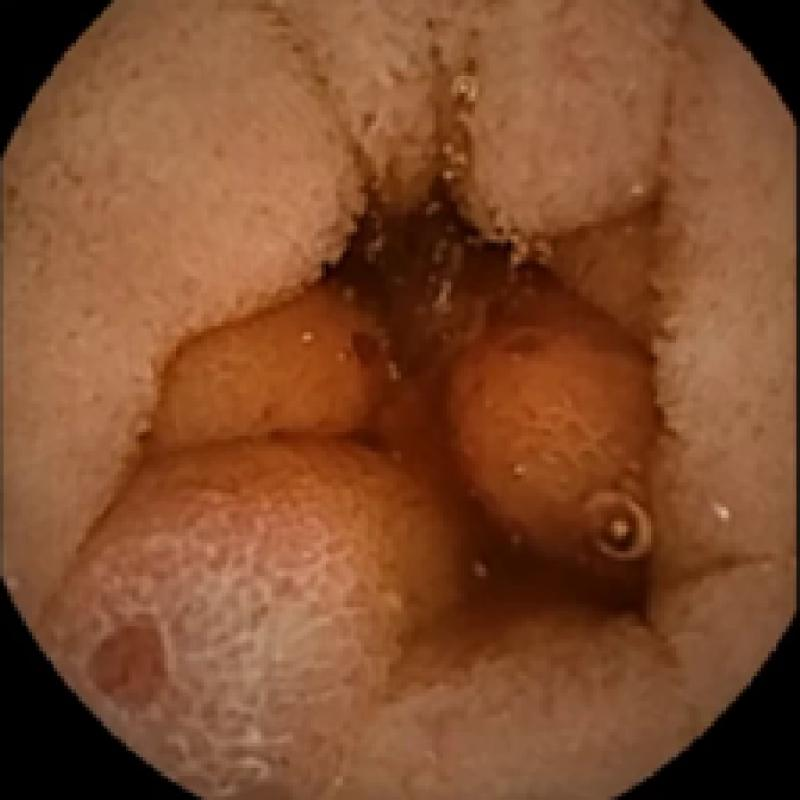bleeding: (347, 322, 407, 378)
